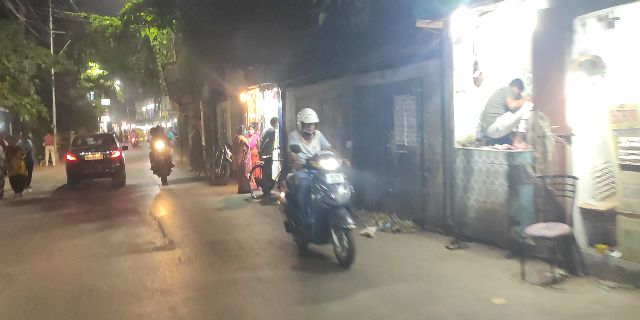Car: (64, 133, 132, 185)
Motorbike: (268, 108, 367, 269), (147, 125, 179, 184)
